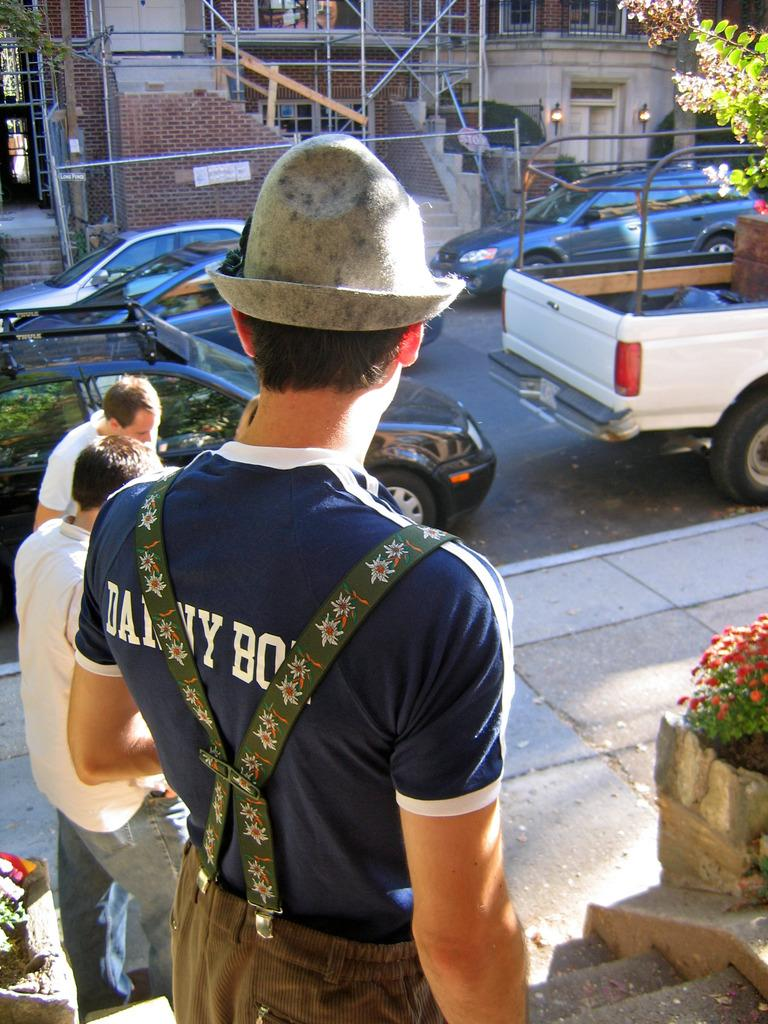Hat: (212, 132, 465, 331)
